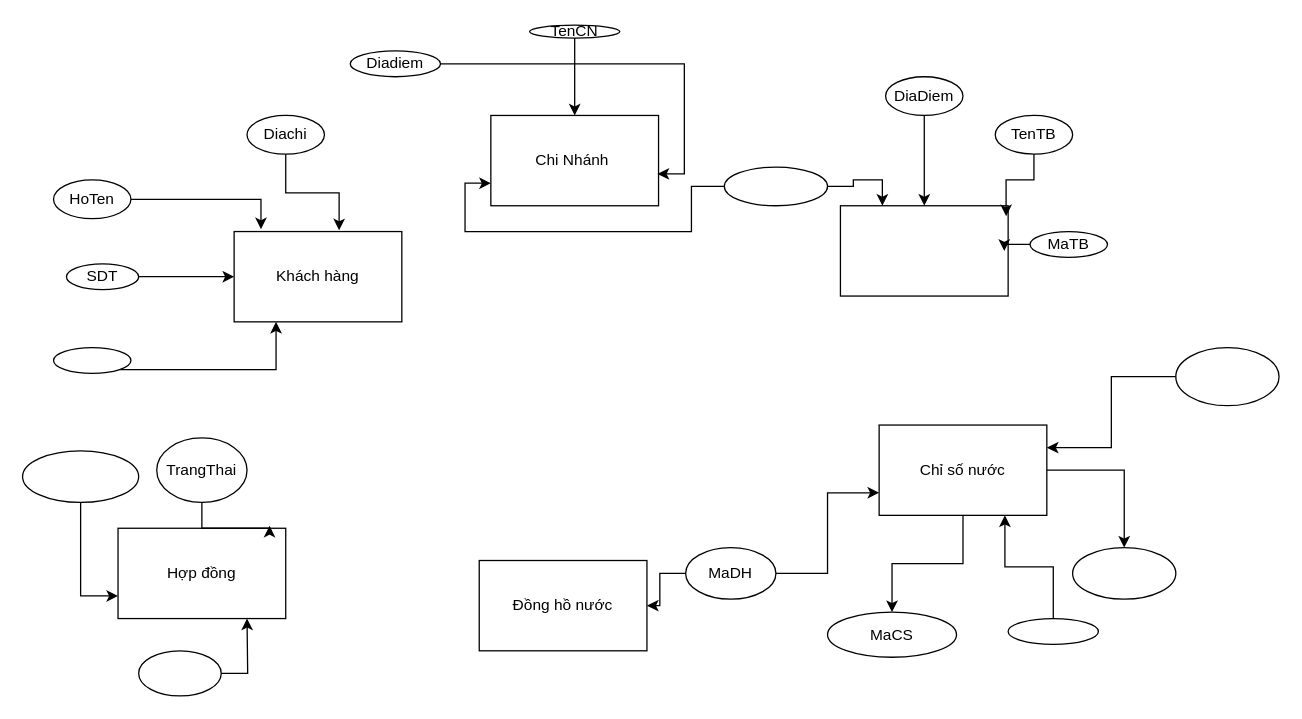
Some shapes in this 1302 by 719 pixel diagram are drawn without their labels. The shapes that lost their labels are listed below. From the top down, each one's centre as x and y in pixels, then its label:
pixel 775 186: MaCN
pixel 923 250: Trạm bơm
pixel 91 359: MaKH
pixel 1227 376: NgayGhi
pixel 80 476: NgayBatDau
pixel 1123 572: Chiso
pixel 1052 630: TenNV
pixel 179 673: MaHD
